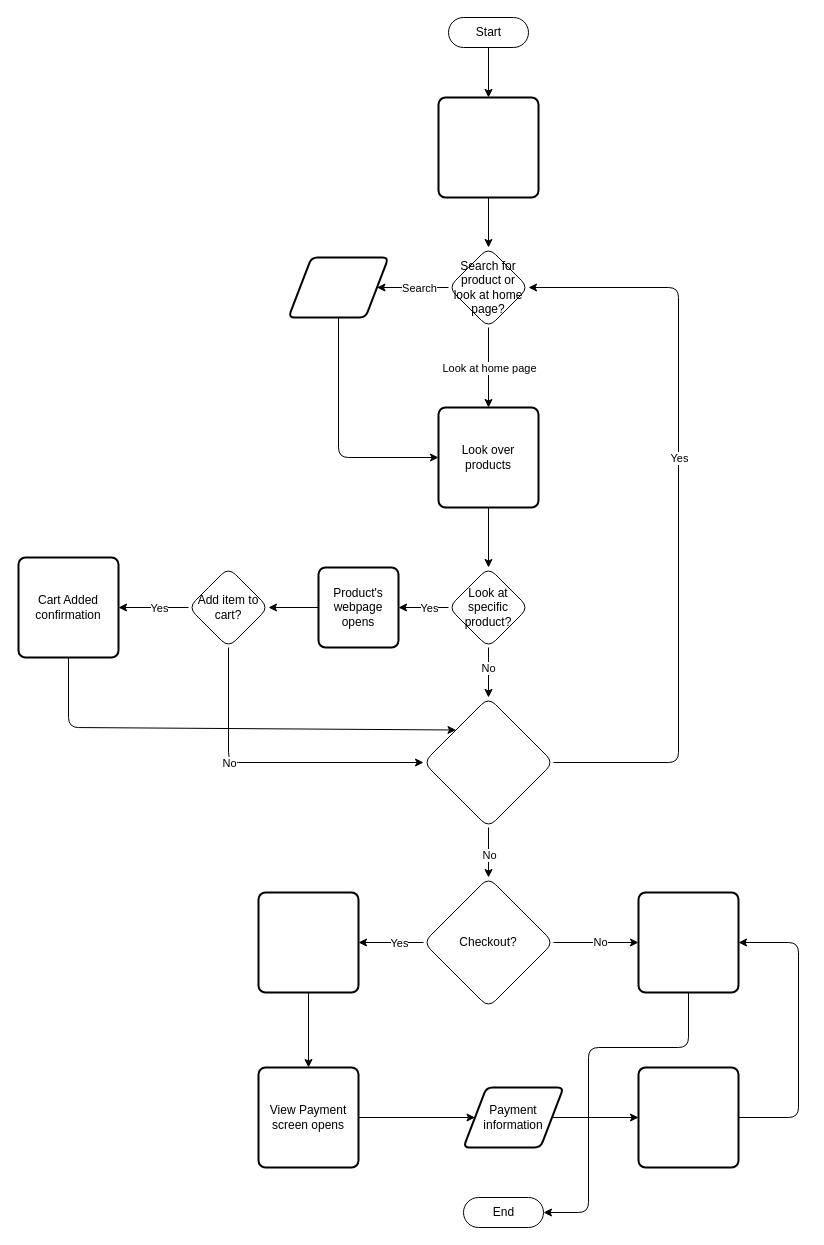
Some shapes in this 824 by 1245 pixel diagram are drawn without their labels. Here are the shapes that lost their labels. From the top down, the box of each, then its label:
(437, 96, 539, 198): User enters website
(287, 256, 389, 318): Input to search
(422, 696, 554, 828): Continue shopping?
(257, 891, 359, 993): View Cart screen opens
(637, 891, 739, 993): Leave website
(637, 1066, 739, 1168): Order confirmation and email is sent
